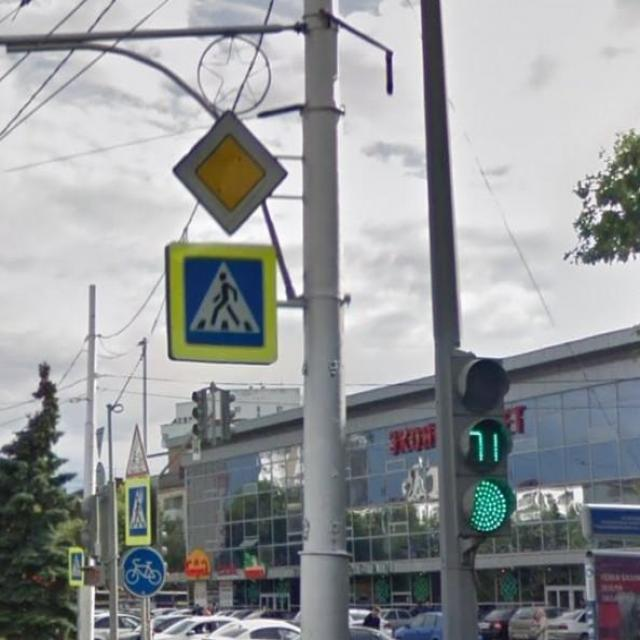traffic_sign: (172, 108, 290, 235), (166, 239, 278, 367), (120, 545, 167, 599), (124, 477, 152, 546), (68, 546, 85, 588)
